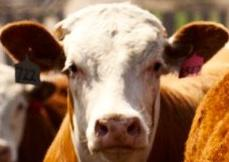muzzles: (87, 113, 151, 160)
